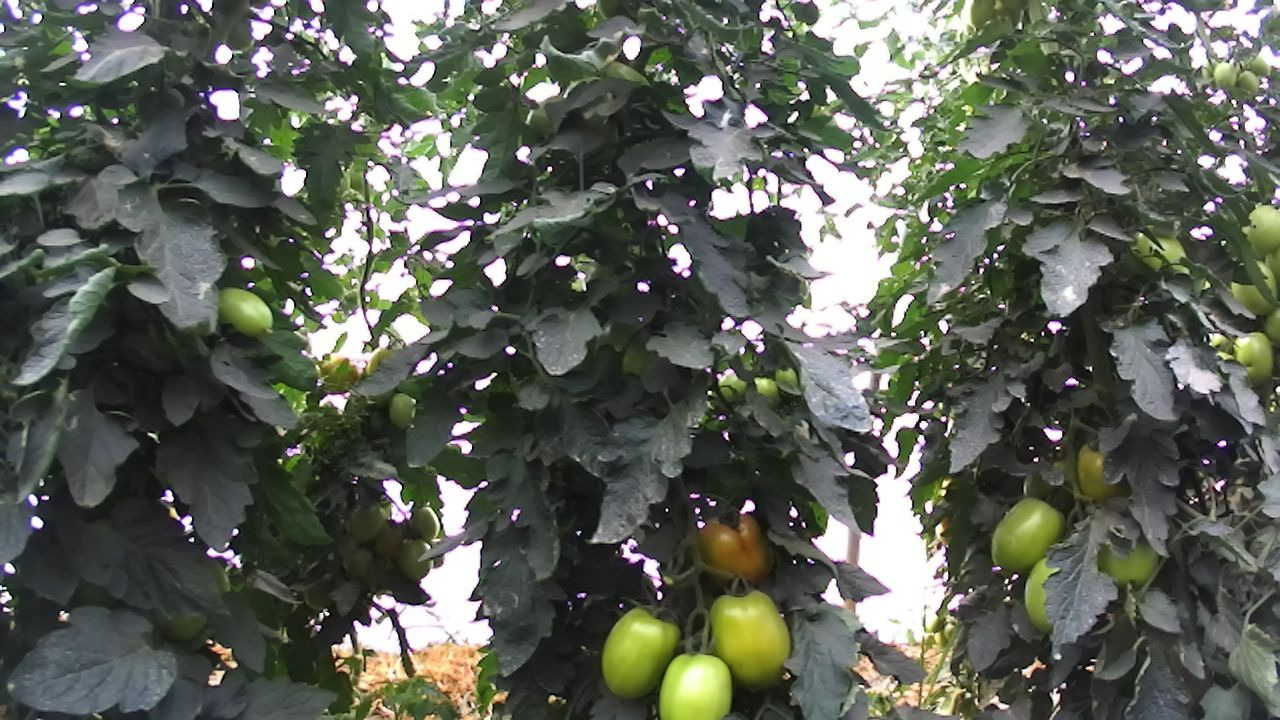tomato: (702, 582, 795, 692), (596, 599, 685, 701), (988, 495, 1070, 576), (693, 506, 776, 586), (654, 649, 734, 720), (1225, 253, 1280, 320), (211, 283, 276, 338), (1226, 326, 1278, 389), (395, 535, 436, 585), (382, 387, 421, 430), (407, 501, 442, 548)
